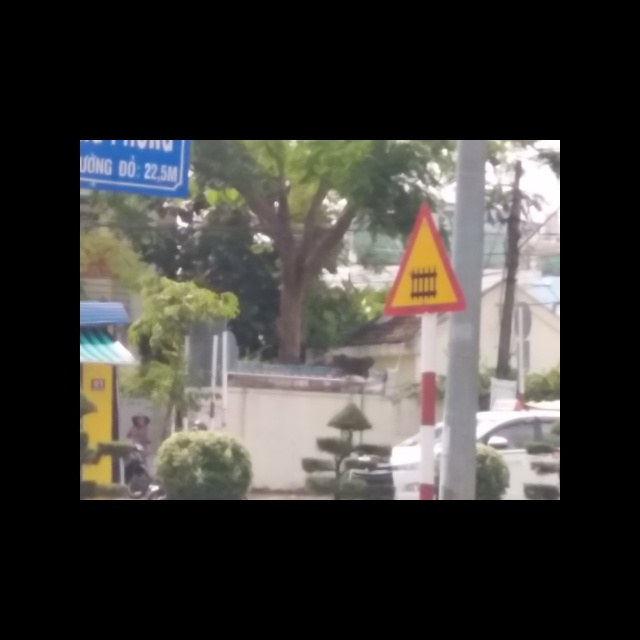Giao nhau với đường sắt có rào chắn: (381, 200, 471, 315)
